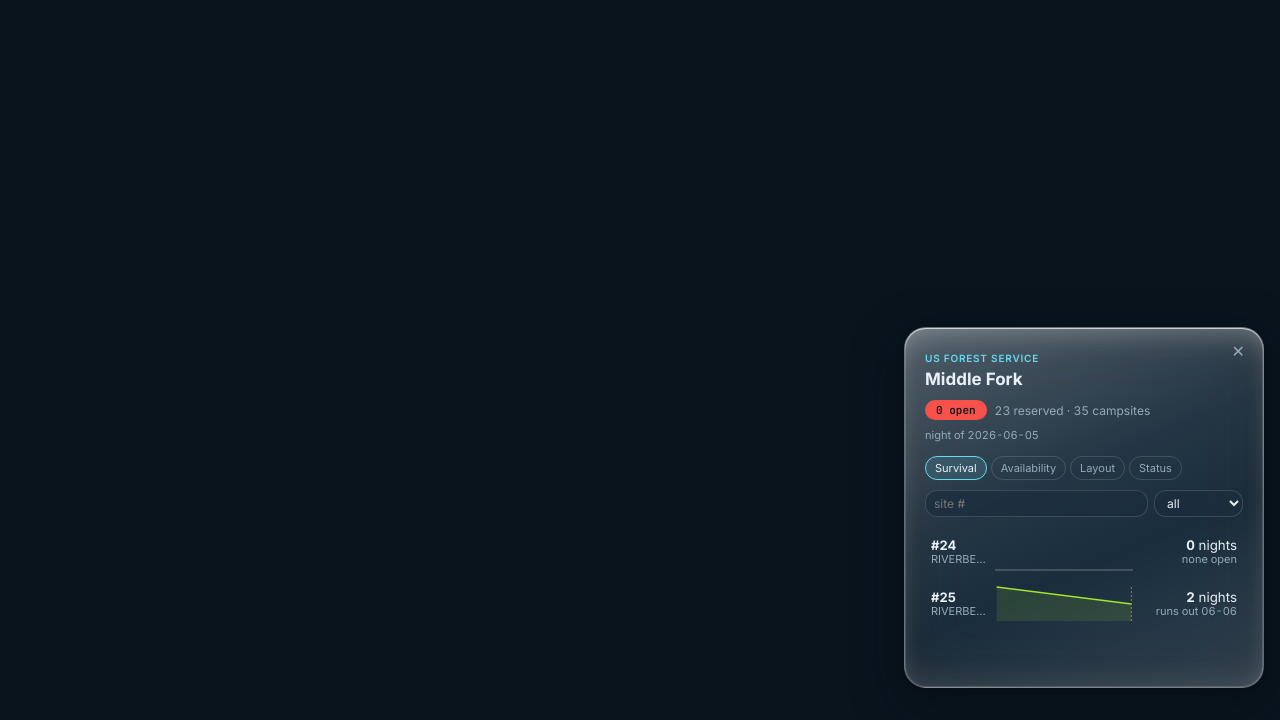
Test: Middle Fork — per-location panes (the validated case) › availability bars view: bucketed remaining-availability per campsite
Click the tab "Availability".
click(1028, 468)  # box [991,456,1066,480]
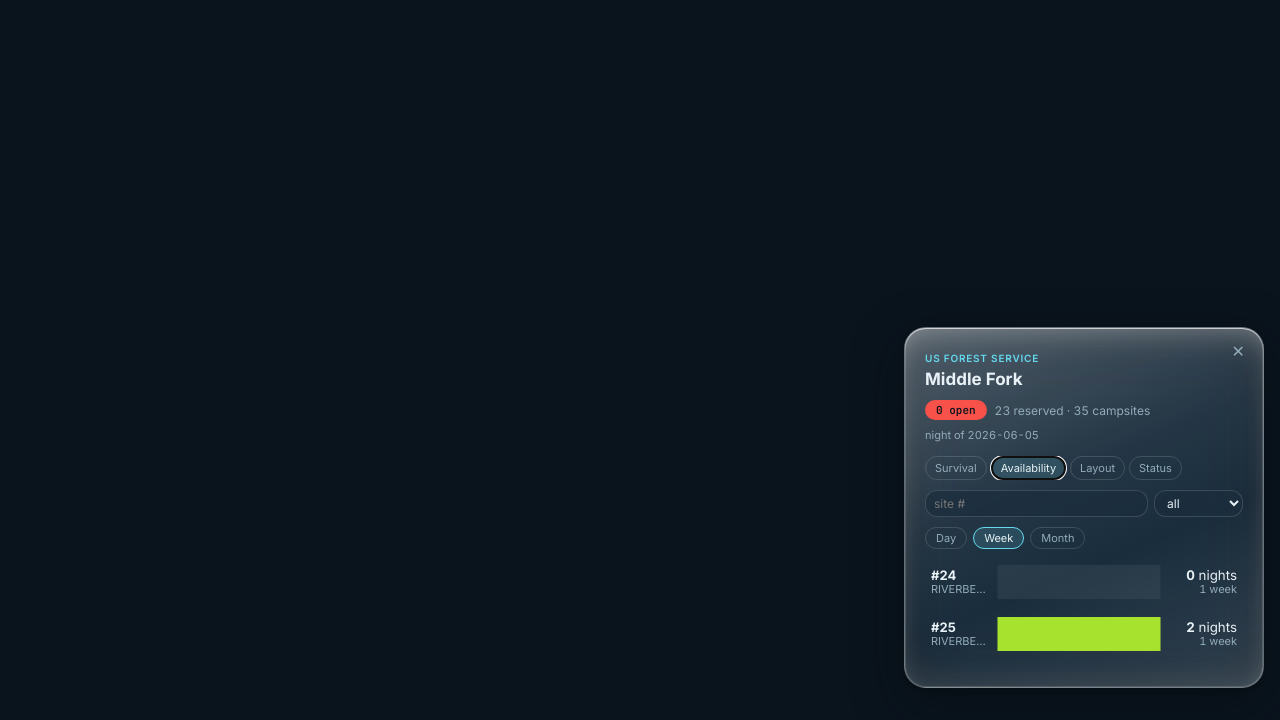
Expected: the text "2" is shown, [1186,619,1195,635]
Result: the tab "week" is shown at [973,527,1024,549]
